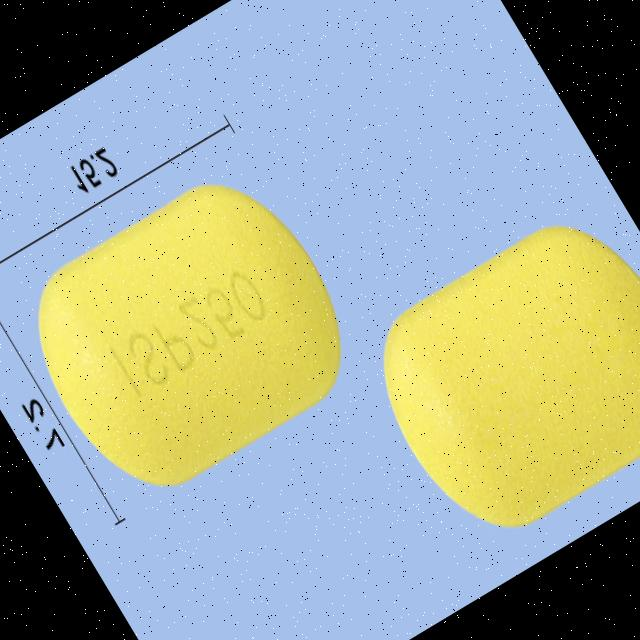Ilsung Clarithromycin - 500mg: (3, 156, 380, 518), (347, 195, 640, 560)
